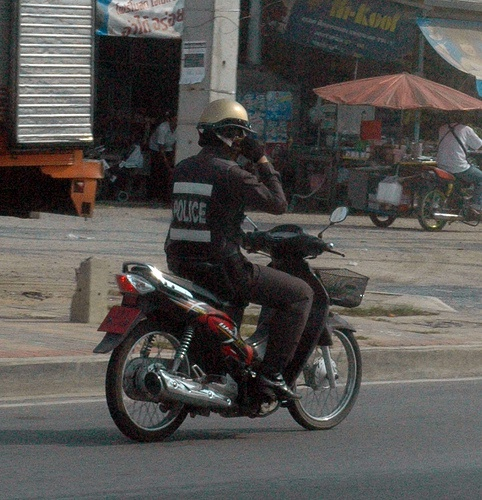non-vehicle: (95, 209, 366, 438), (417, 164, 479, 231)
